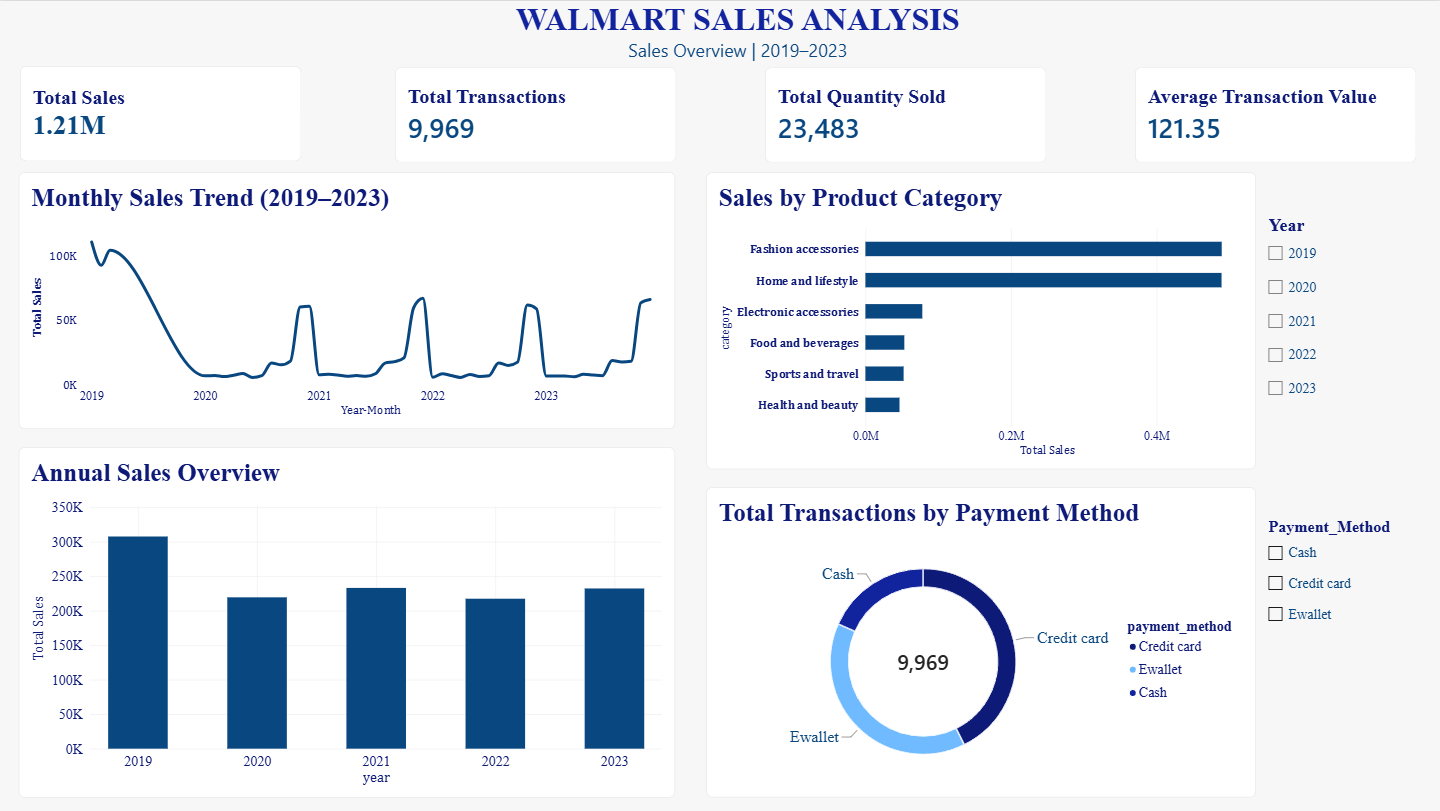

The dashboard page shown, as its layout file describes it:
{"tool":"powerbi","page":{"name":"Sales Overview","canvas":[1920,1080],"ordinal":0},"visuals":[{"type":"cardVisual","fields":{"Data":["walmart_cleaned.Total Sales"]},"box":[25.9,87,375,127],"z":0},{"type":"cardVisual","fields":{"Data":["walmart_cleaned.Total Transactions"]},"box":[525.9,88.9,375.9,127.8],"z":1},{"type":"cardVisual","fields":{"Data":["walmart_cleaned.Total Quantity Sold"]},"box":[1020.4,88.9,375,127.8],"z":2},{"type":"cardVisual","fields":{"Data":["walmart_cleaned.Average Transaction Value"]},"box":[1513,88.9,375,127],"z":3},{"type":"clusteredBarChart","title":"Sales by Product Category","fields":{"Category":["walmart_cleaned.category"],"Y":["walmart_cleaned.Total Sales"]},"box":[942.3,228.8,732.7,396.2],"z":4},{"type":"lineChart","title":"Monthly Sales Trend (2019–2023)","fields":{"Category":["walmart_cleaned.year_month"],"Y":["walmart_cleaned.Total Sales"]},"box":[25,228.8,875,342.3],"z":5},{"type":"donutChart","title":"Total Transactions by Payment Method","fields":{"Category":["walmart_cleaned.payment_method"],"Y":["walmart_cleaned.Total Transactions"]},"box":[942.3,648.1,732.7,413.5],"z":6},{"type":"clusteredColumnChart","title":"Annual Sales Overview","fields":{"Category":["walmart_cleaned.year"],"Y":["walmart_cleaned.Total Sales"]},"box":[25,594.2,875,467.3],"z":7},{"type":"slicer","title":"Year","fields":{"Values":["walmart_cleaned.year"]},"box":[1682.7,284.6,205.8,269.2],"z":8},{"type":"slicer","title":"Payment Method","fields":{"Values":["walmart_cleaned.payment_method"]},"box":[1682.7,688.5,205.8,167.3],"z":9},{"type":"textbox","box":[1713,930,207,150],"z":10},{"type":"textbox","box":[525,0,917.4,89],"z":11}]}

Visuals, with their boxes in screenshot pixels (x1, y1, x2, y2), scaled from the page's 1920x1080 canvas onto the 1440x811 screenshot:
cardVisual - walmart_cleaned.Total Sales: x1=19 y1=65 x2=301 y2=161
cardVisual - walmart_cleaned.Total Transactions: x1=394 y1=67 x2=676 y2=163
cardVisual - walmart_cleaned.Total Quantity Sold: x1=765 y1=67 x2=1047 y2=163
cardVisual - walmart_cleaned.Average Transaction Value: x1=1135 y1=67 x2=1416 y2=162
"Sales by Product Category" clusteredBarChart: x1=707 y1=172 x2=1256 y2=469
"Monthly Sales Trend (2019–2023)" lineChart: x1=19 y1=172 x2=675 y2=429
"Total Transactions by Payment Method" donutChart: x1=707 y1=487 x2=1256 y2=797
"Annual Sales Overview" clusteredColumnChart: x1=19 y1=446 x2=675 y2=797
"Year" slicer: x1=1262 y1=214 x2=1416 y2=416
"Payment Method" slicer: x1=1262 y1=517 x2=1416 y2=643
textbox: x1=1285 y1=698 x2=1439 y2=810
textbox: x1=394 y1=0 x2=1082 y2=67
